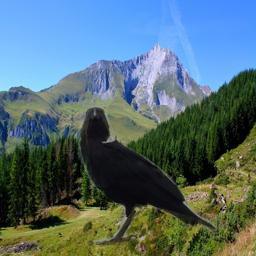Crow: (77, 105, 218, 245)
